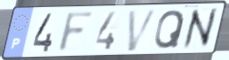4: (94, 10, 118, 52), (31, 12, 54, 54)
F: (56, 10, 98, 55)
N: (181, 6, 219, 52)
Q: (153, 9, 187, 51)
V: (125, 8, 160, 54)
